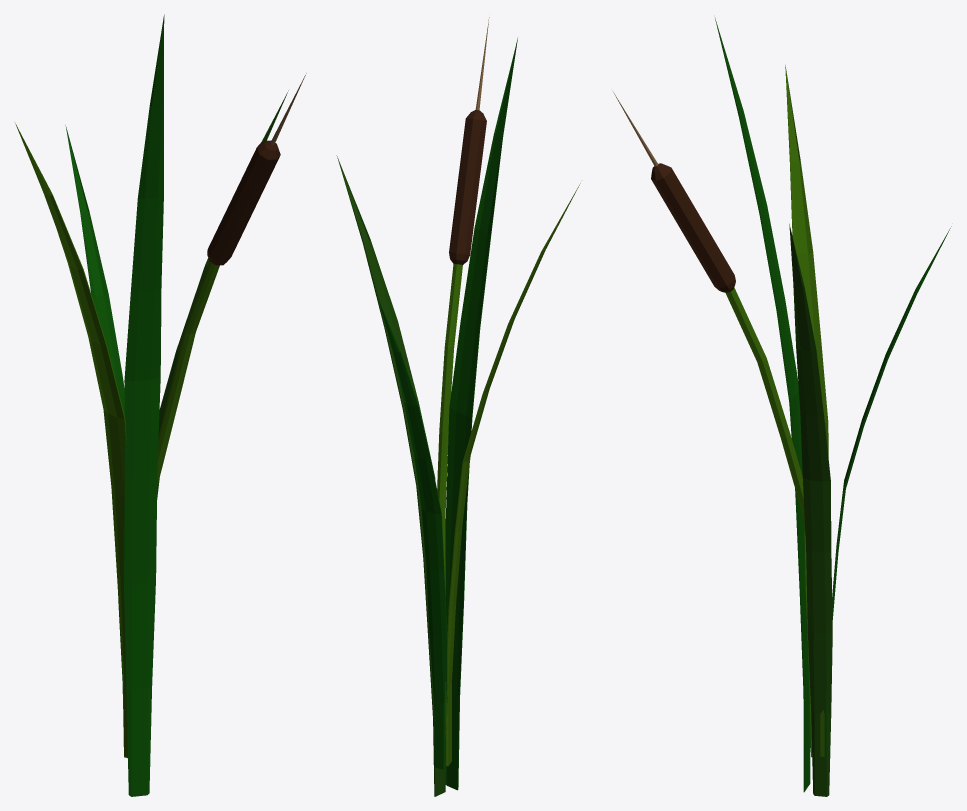
File: Plants1_V1.1.fbx
3 views of the same model, side by side, from view 1: azimuth 30°, elevation 25°; view 2: azimuth 150°, elevation 25°; view 3: azimuth 270°, elevation 25° (orthographic). The views are drawn at different scales.
Visible parts, largest first — view 1: Hotdog Plant.001; view 2: Hotdog Plant.001; view 3: Hotdog Plant.001.
Boxes of the visible parts, x1,y1,x2,y2 form: Hotdog Plant.001: [15, 14, 306, 796]; Hotdog Plant.001: [336, 17, 580, 796]; Hotdog Plant.001: [613, 18, 951, 796].
Size of the model in its own units: 2487 by 7090 by 2861.
